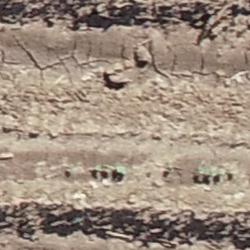cotton: (117, 164, 125, 174), (195, 167, 201, 175), (201, 168, 208, 174), (213, 170, 220, 176), (94, 165, 100, 171), (67, 166, 73, 172), (225, 169, 230, 174), (165, 167, 170, 171)
